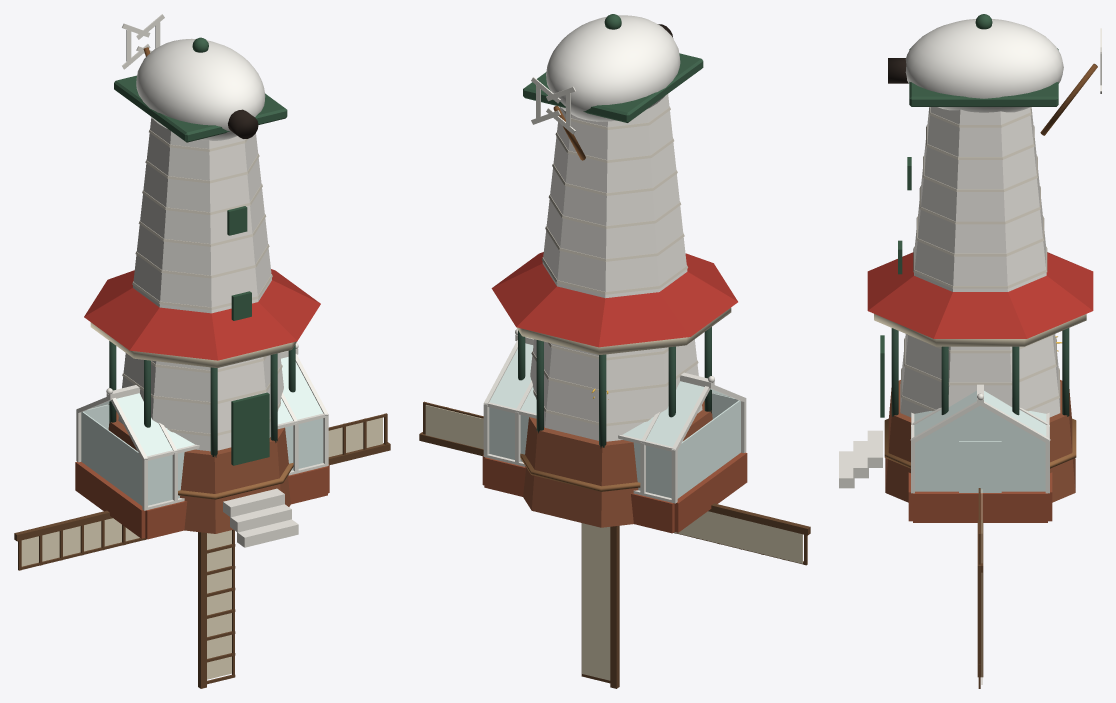
File: decor.glb
3 renders of one model, left to right at view 1: azimuth 30°, elevation 25°; view 2: azimuth 150°, elevation 25°; view 3: azimuth 270°, elevation 25°, orthographic. The views are drawn at different scales.
Parts seen in each view (by area): view 1: windmill, bandstand, greenhouse, sails; view 2: windmill, greenhouse, bandstand, sails; view 3: windmill, bandstand, greenhouse, sails.
Part boxes in pixels (bbox=[...]): windmill: bbox=[108, 14, 290, 533]; bandstand: bbox=[84, 269, 320, 547]; greenhouse: bbox=[75, 343, 329, 539]; sails: bbox=[14, 413, 390, 688]; windmill: bbox=[523, 14, 712, 527]; greenhouse: bbox=[482, 329, 747, 533]; bandstand: bbox=[491, 252, 737, 491]; sails: bbox=[419, 401, 810, 688]; windmill: bbox=[880, 14, 1101, 502]; bandstand: bbox=[839, 252, 1093, 488]; greenhouse: bbox=[908, 384, 1052, 522]; sails: bbox=[977, 488, 983, 688].
Size of the model in its own units: 6.2 by 10.27 by 3.7.
